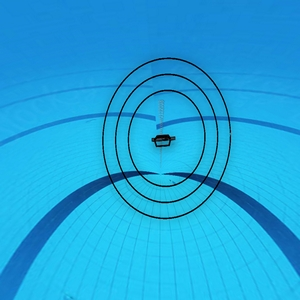circle: (101, 57, 234, 219)
submarine: (158, 136, 175, 148)
